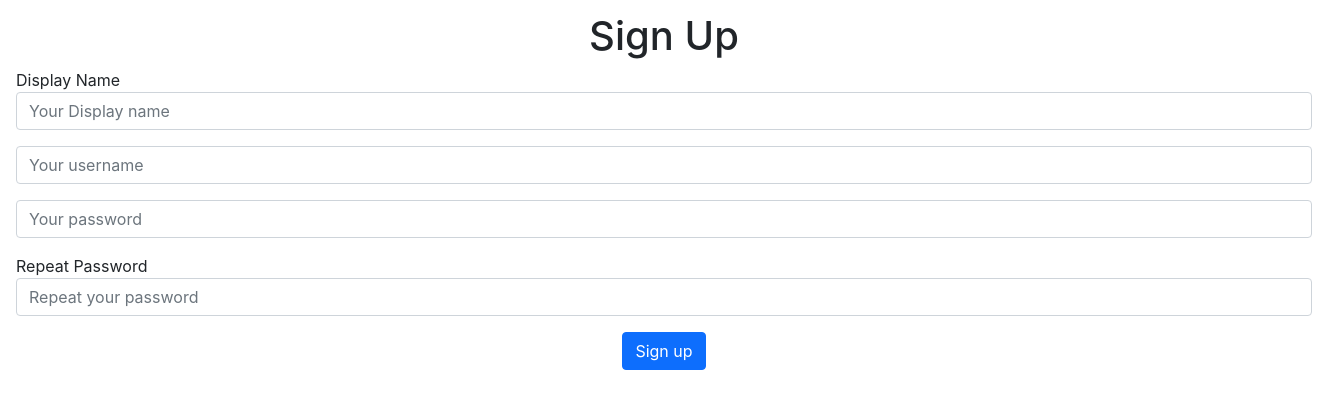
Scenario: UserSignupPage › Interaction › hide the validation error when user changes the content of username
In the field with placeholder "Your Display name": (664, 111) [16,92,1312,130], type "my-display-name"
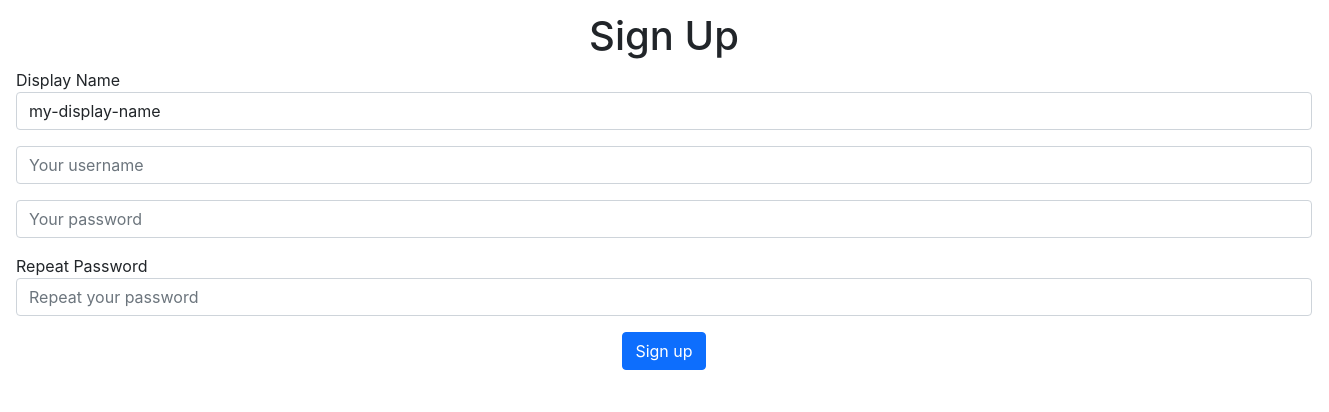
In the field with placeholder "Your username": (664, 165) [16,146,1312,184], type "my-user-name"
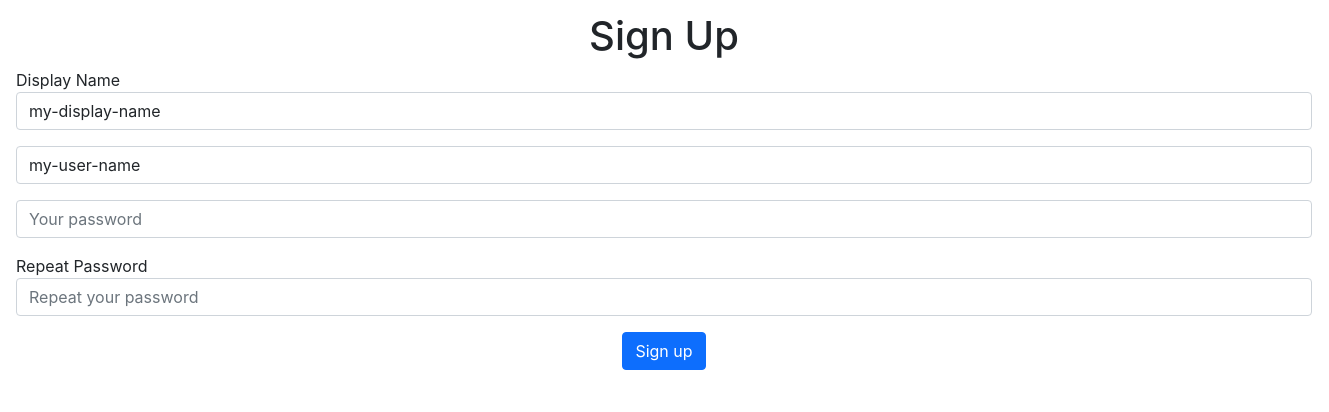
In the password field with placeholder "Your password": (664, 219) [16,200,1312,238], type "P@ssword"
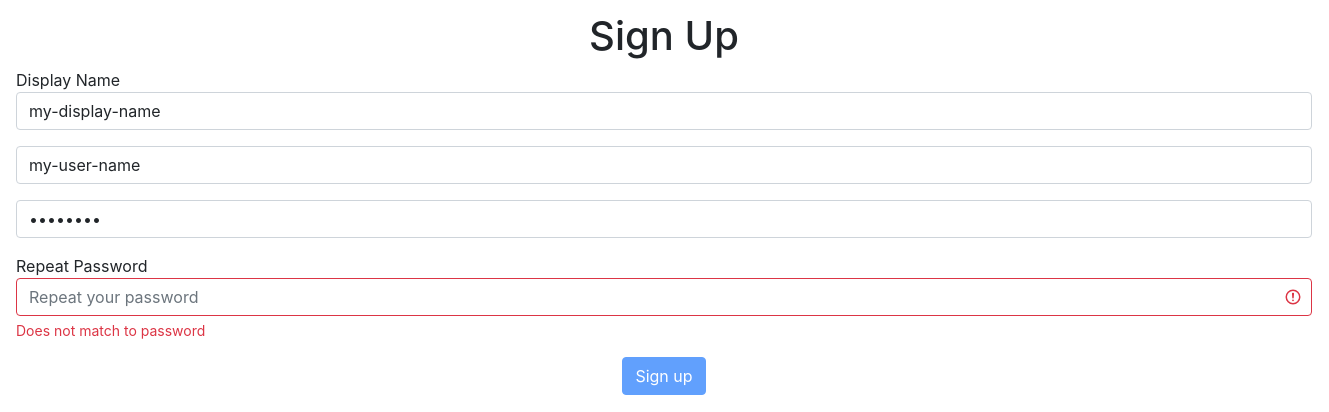
In the password field with placeholder "Repeat your password": (664, 297) [16,278,1312,316], type "P@ssword"
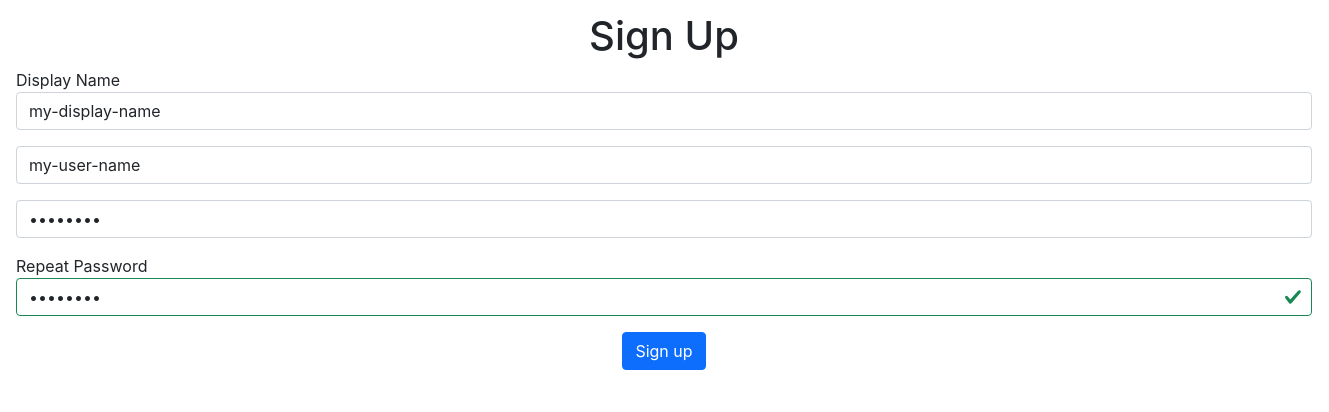
Click the button "Sign up": (664, 351) [622,332,706,370]
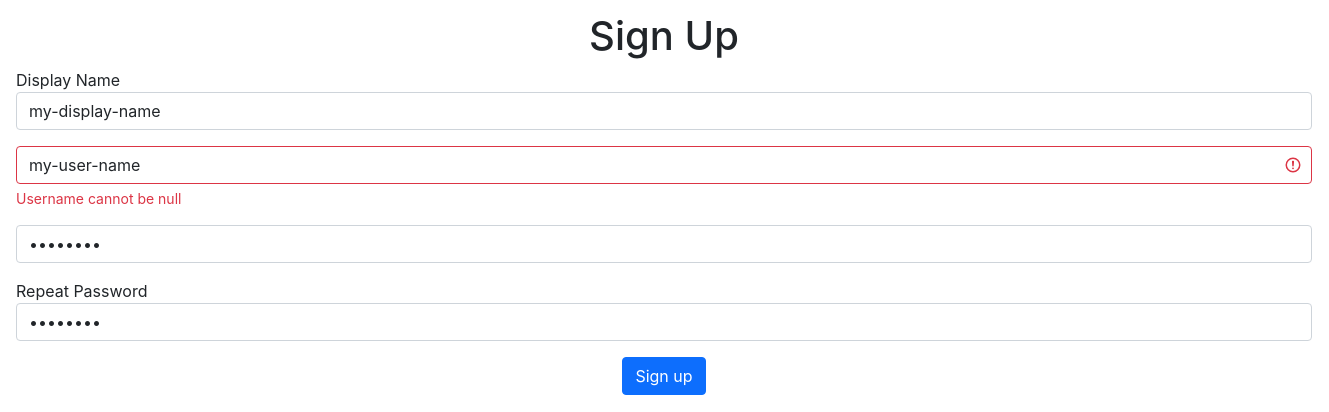
Replace the text in the 2nd field with placeholder "Your username" with "name updated": (664, 165) [16,146,1312,184]
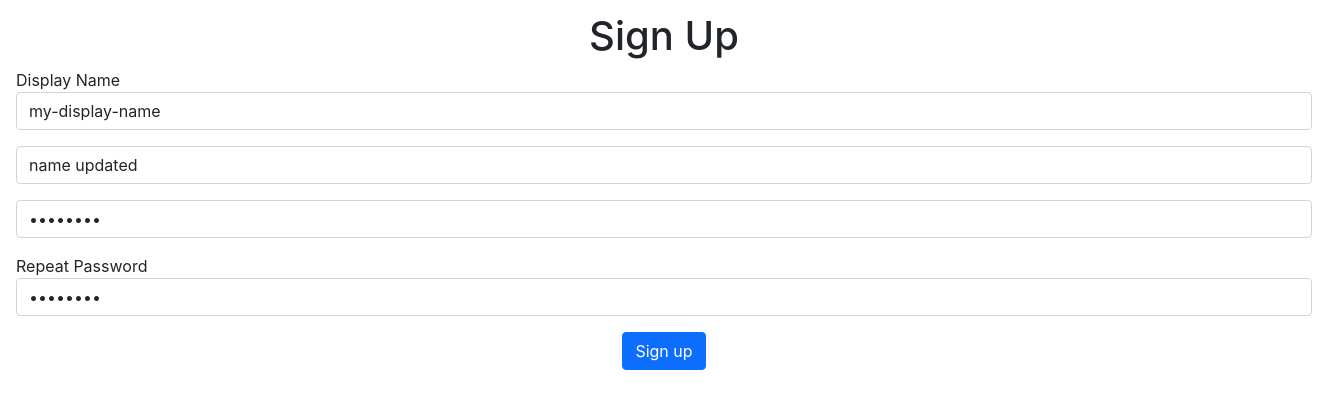
Now the text "Username cannot be null" is gone
